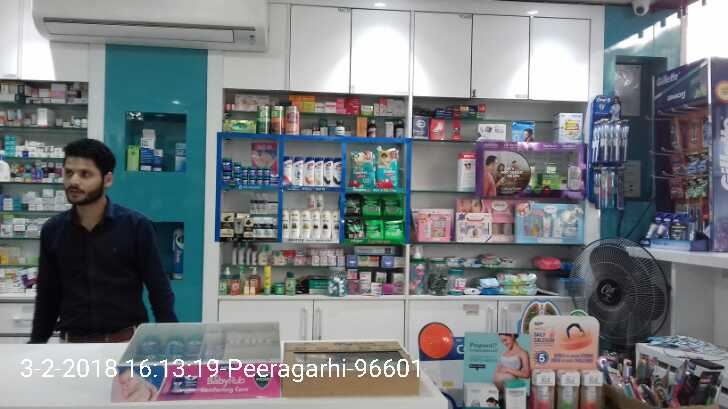oralcare: (587, 90, 631, 209)
vicks: (221, 157, 280, 184)
